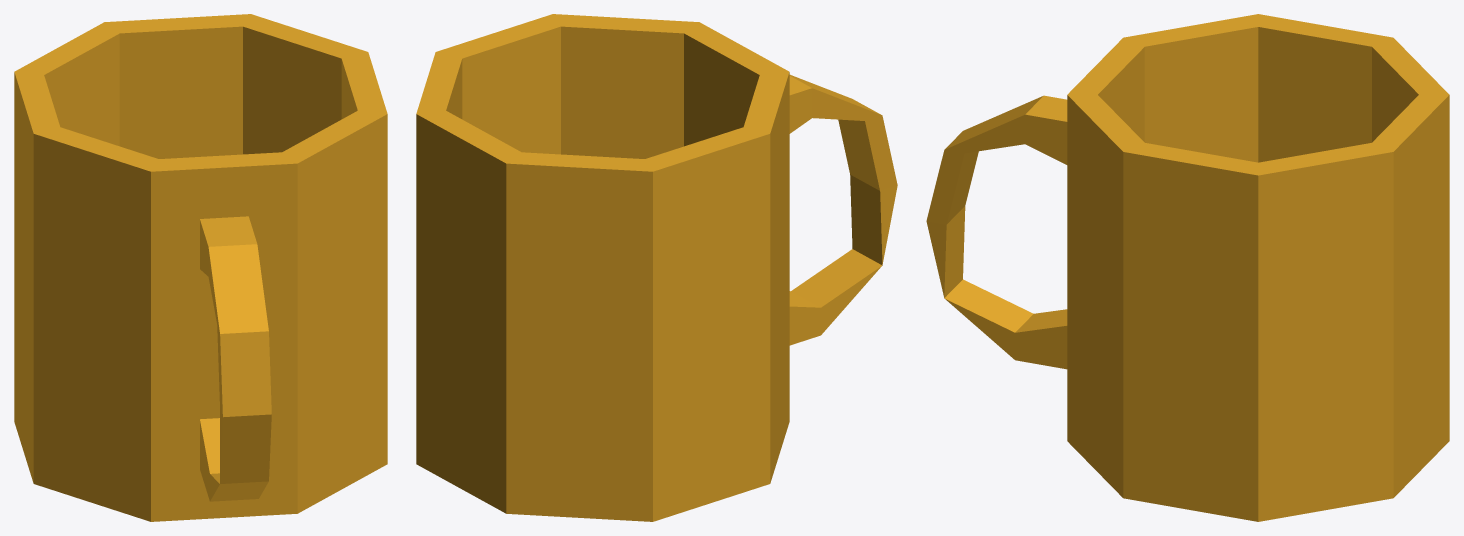
Rendered from Cup.fbx.
3 views of the same model, side by side, from view 1: azimuth 30°, elevation 25°; view 2: azimuth 150°, elevation 25°; view 3: azimuth 270°, elevation 25° (orthographic).
Parts seen in each view (by area): view 1: Cup; view 2: Cup; view 3: Cup.
Part boxes in pixels (x1,y1,x2,y2): Cup: [14, 14, 387, 521]; Cup: [416, 14, 897, 521]; Cup: [926, 14, 1449, 521].
Size of the model in its own units: 200 by 200 by 274.
